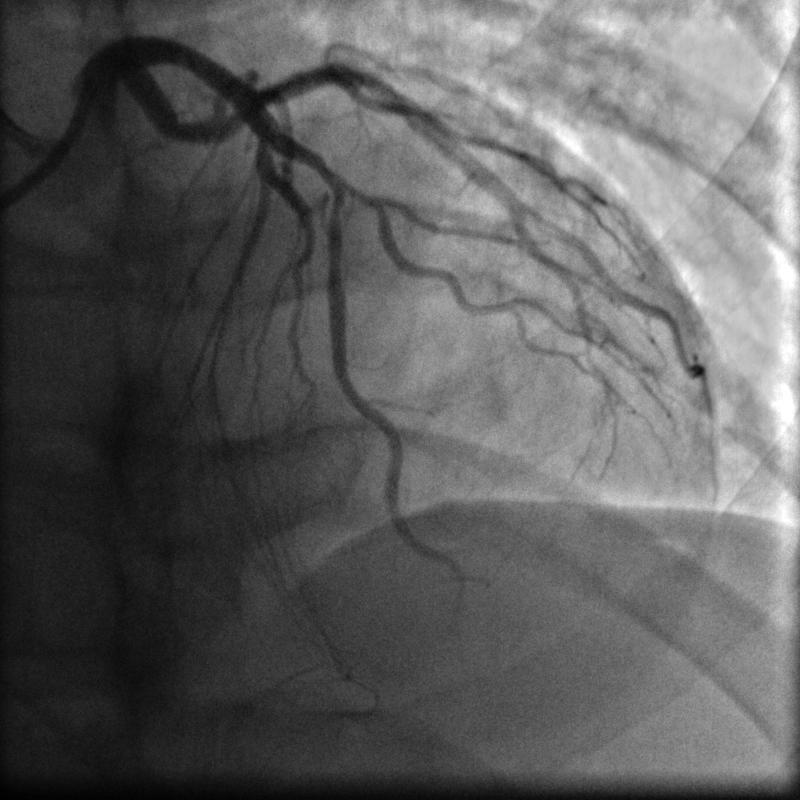Stenosis: (322, 176, 350, 229)
